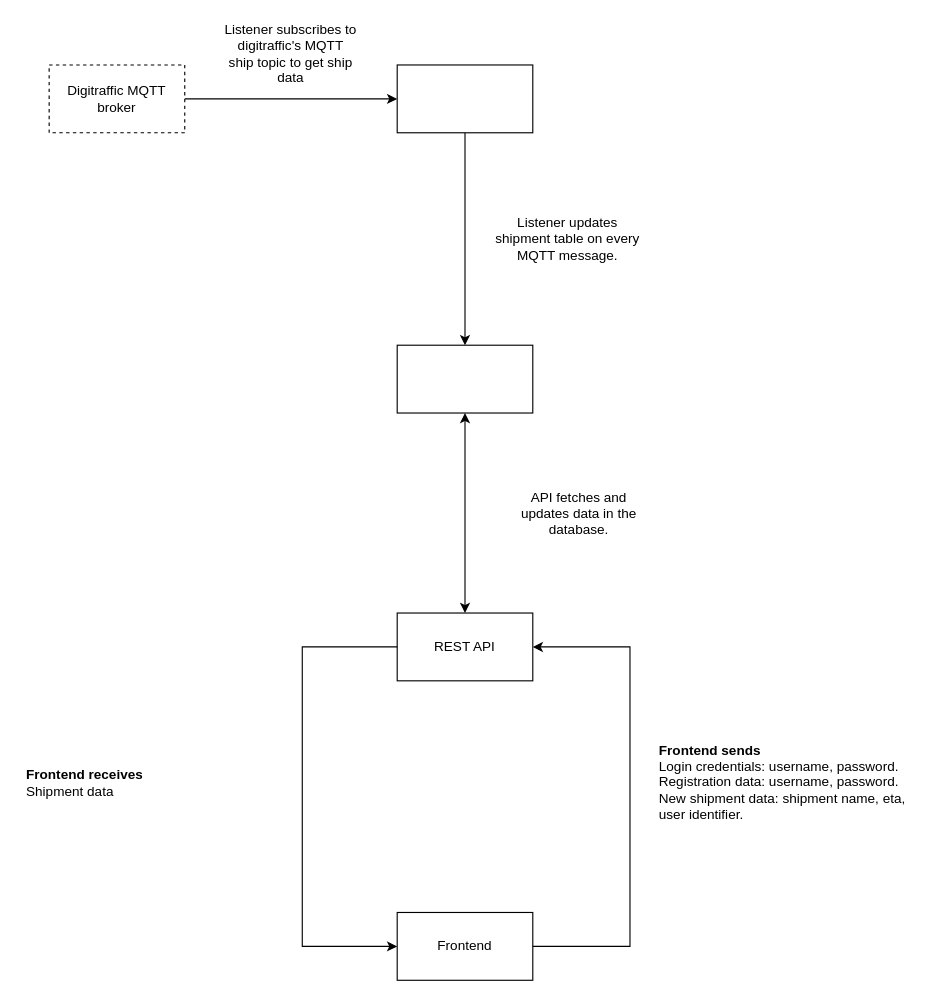
Some shapes in this 931 by 1000 pixel diagram are drawn without their labels. The centre of each missing label's shape, as x and y in pixels:
Database: (x=464, y=378)
Listener: (x=464, y=98)
